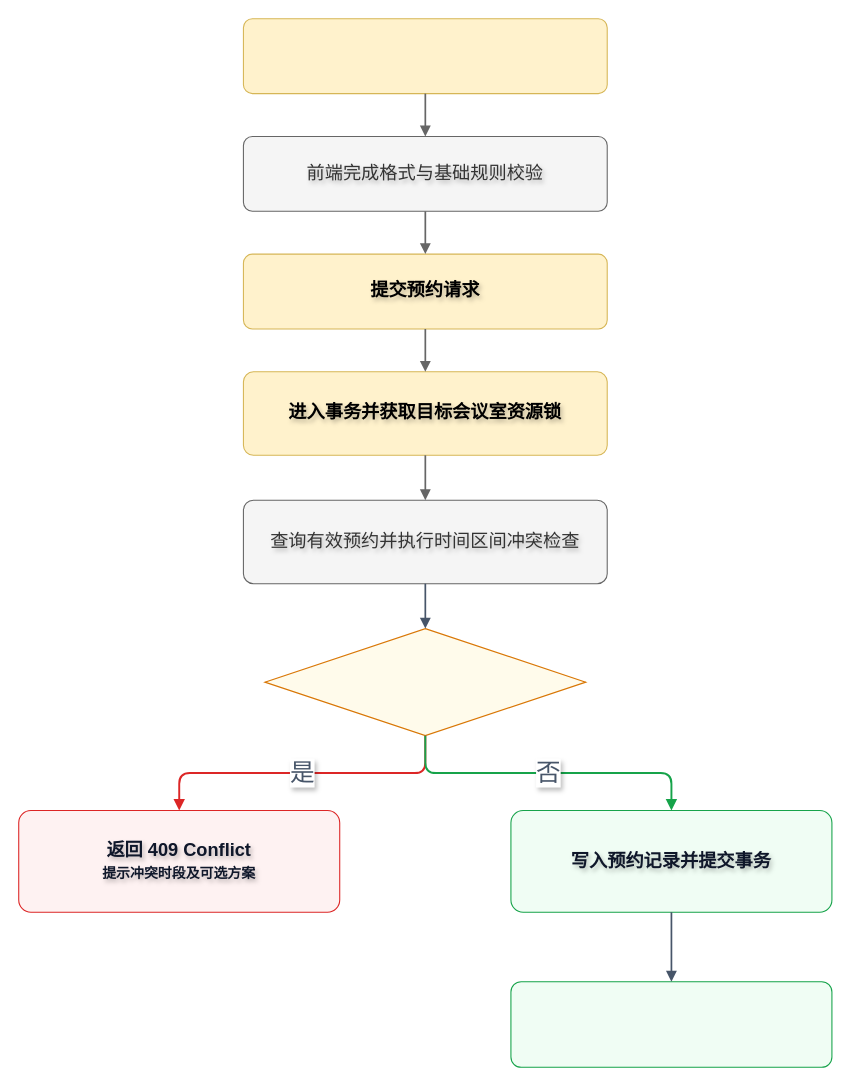
Image size: 851x1086. Some labels were removed from this diagram. The shapes that lost their labels are listed below. From the top down, each one's centre as x and y in pixels, then its label:
At point 424,56: "用户选择日期、会议室与时间段".
At point 425,682: "是否存在冲突？".
At point 671,1024: "预约成功并刷新日历".
